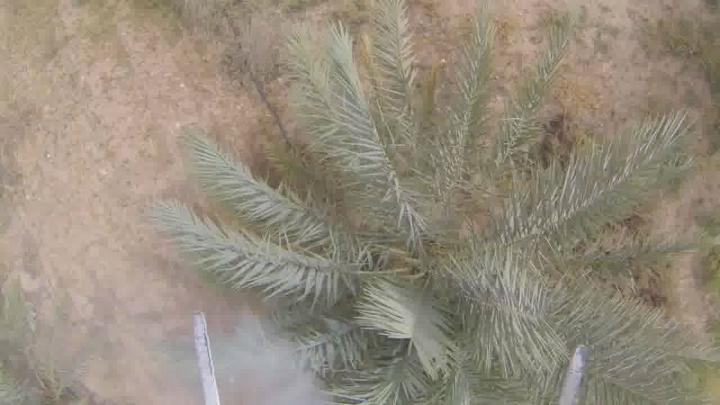Date-Palm-Crown: (247, 109, 557, 405)
